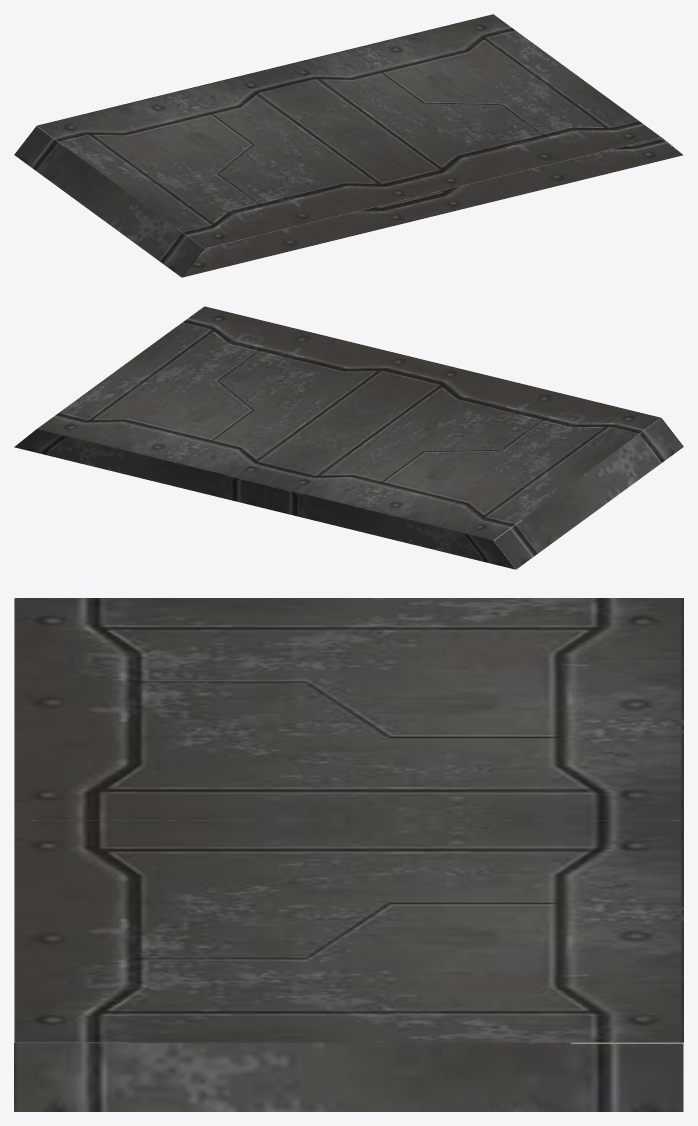
Rendered from SM_wall_002.fbx.
3 renders of one model, top to bottom at view 1: azimuth 30°, elevation 25°; view 2: azimuth 150°, elevation 25°; view 3: azimuth 270°, elevation 25°, orthographic. The views are drawn at different scales.
Visible parts, largest first — view 1: SM_wall_002; view 2: SM_wall_002; view 3: SM_wall_002.
Boxes of the visible parts, <box> form: SM_wall_002: <box>14,14,683,277</box>; SM_wall_002: <box>14,306,683,569</box>; SM_wall_002: <box>14,598,683,1111</box>.
Size of the model in its own units: 10 by 0.45 by 5.79.
